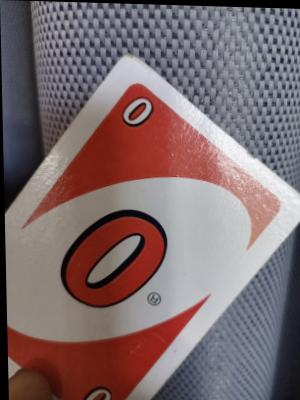num_0: (119, 90, 158, 130), (74, 382, 117, 400)
